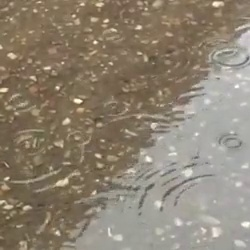drop: (85, 118, 196, 188), (42, 189, 136, 248), (131, 156, 214, 212), (1, 87, 35, 116), (198, 35, 235, 58), (213, 46, 249, 69), (18, 133, 45, 156), (100, 98, 131, 118), (63, 127, 92, 147), (98, 22, 124, 43), (219, 134, 243, 150)
